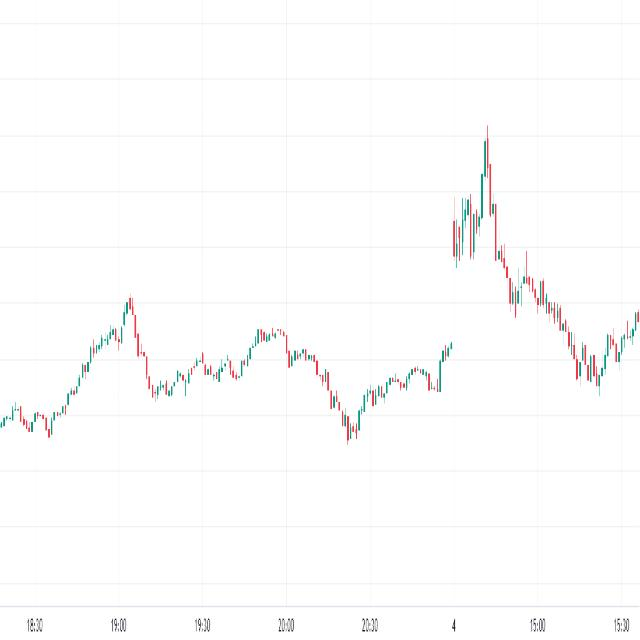Channel-down: (512, 234, 612, 426)
Channel-up: (38, 299, 130, 458)
